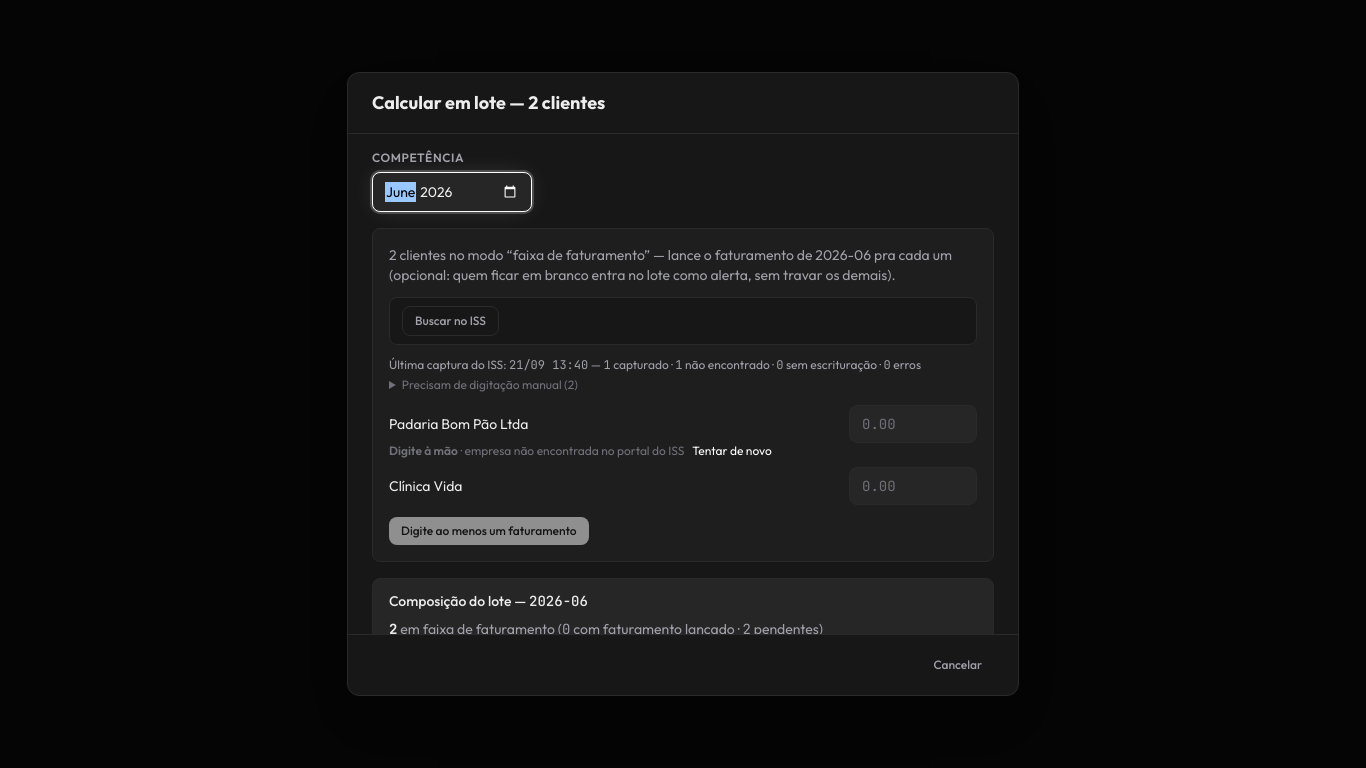
LoteContabilidadeDialog — busca no ISS pelo sistema (Story 13.5) › "Tentar de novo" na empresa não encontrada pede a busca SÓ do documento dela
Click the button with aria-label "Tentar de novo no ISS: Padaria Bom Pão Ltda". click: (732, 451)
box: [692,443,772,459]
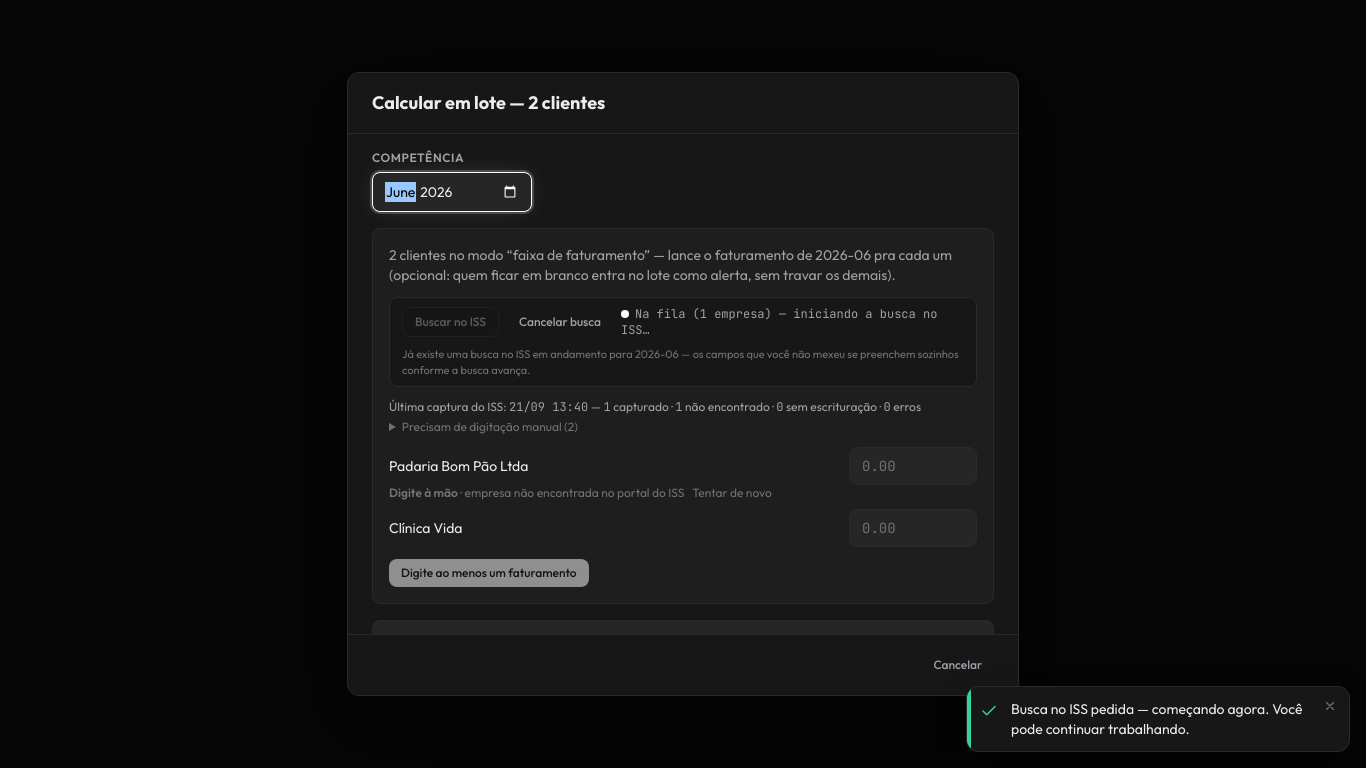
Check: the text "Na fila (1 empresa) — iniciando a busca no ISS…" is shown, box [621,306,937,338]
